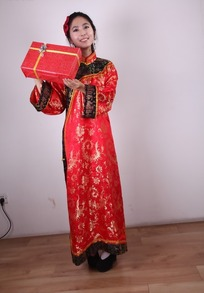handsup: (25, 10, 127, 274)
